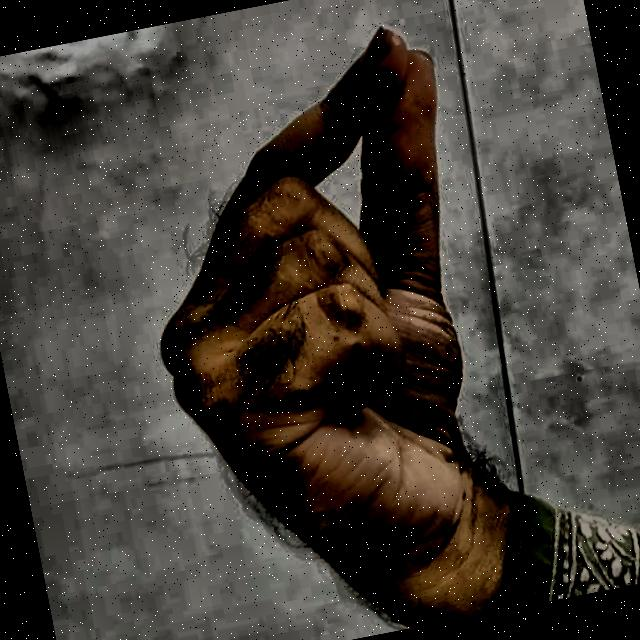Anusshar: (92, 0, 581, 632)
